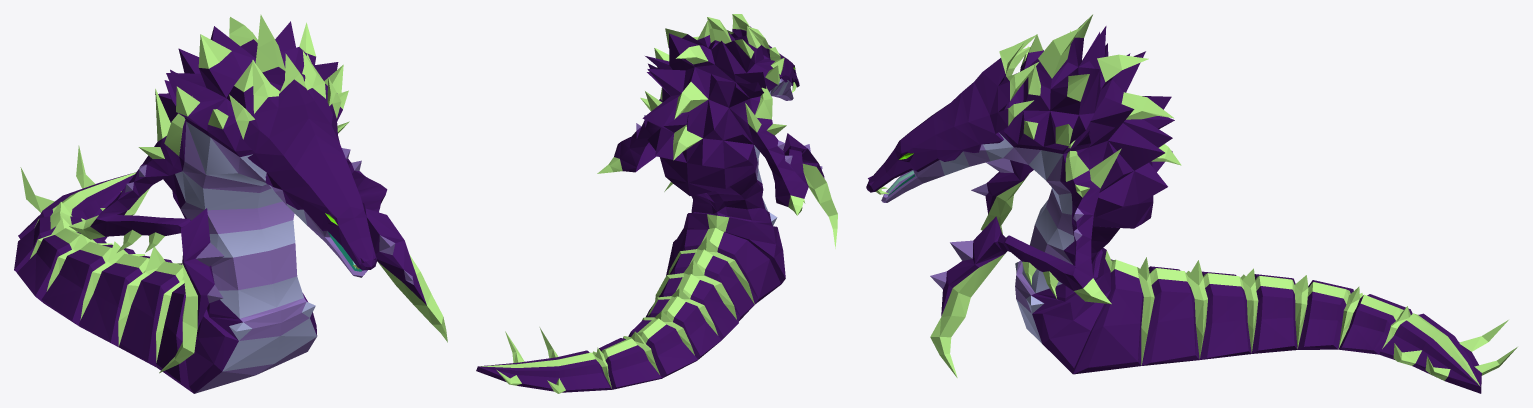
Rendered from Walk (33).obj.
The picture shows the model from 3 angles, left to right: view 1: azimuth 30°, elevation 25°; view 2: azimuth 150°, elevation 25°; view 3: azimuth 270°, elevation 25°; orthographic projection. The views are drawn at different scales.
Parts seen in each view (by area): view 1: Alien_Serpent; view 2: Alien_Serpent; view 3: Alien_Serpent.
Boxes of the visible parts, x1=… form: Alien_Serpent: x1=14, y1=14, x2=447, y2=393; Alien_Serpent: x1=476, y1=14, x2=837, y2=393; Alien_Serpent: x1=866, y1=14, x2=1517, y2=393.
Size of the model in its own units: 186 by 217 by 387.
Materials: 1 (1 with a texture image).
